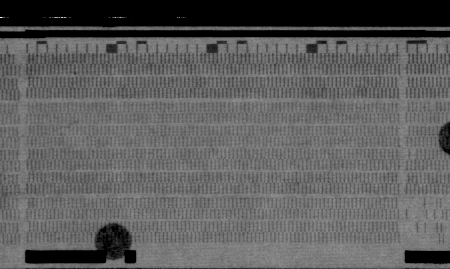Broken hole: (403, 196, 450, 246), (11, 52, 22, 67)
